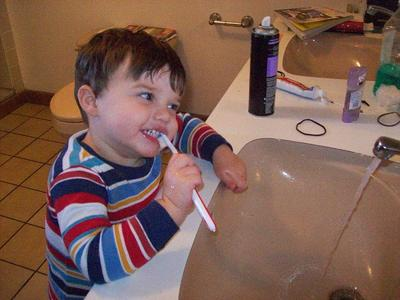person: (42, 26, 250, 300)
